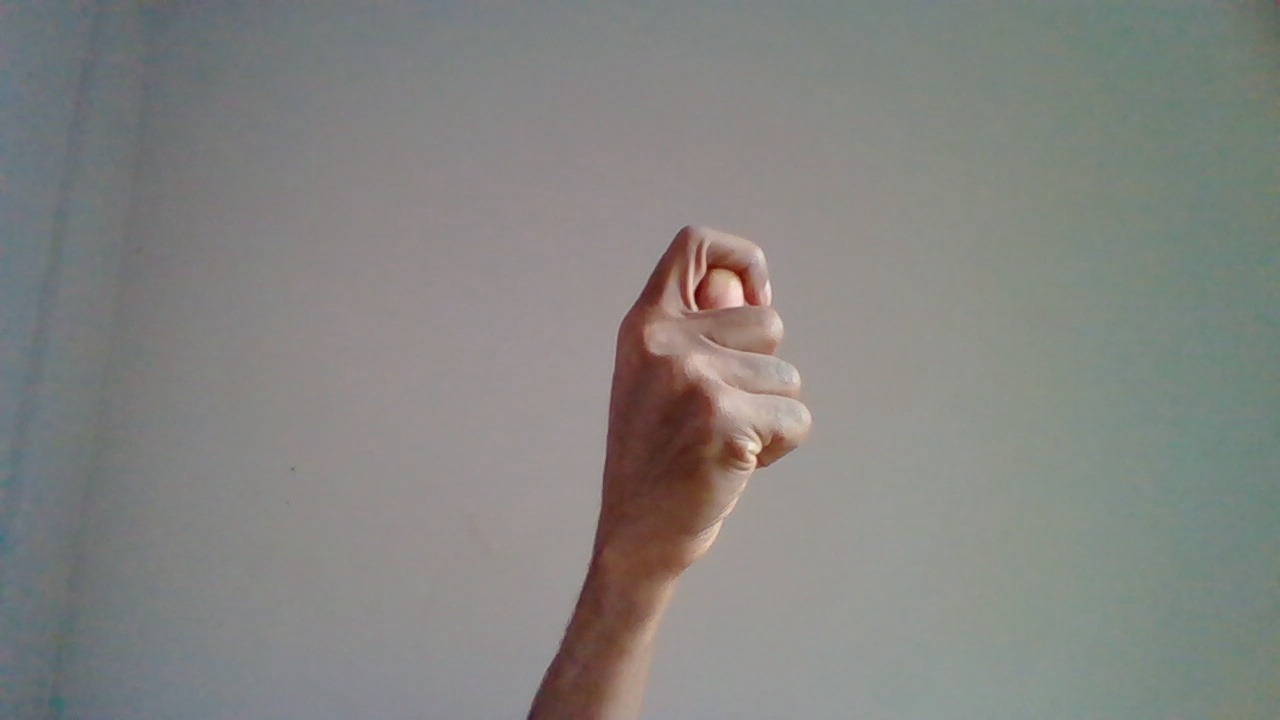che: (605, 219, 816, 661)
